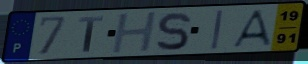7: (38, 15, 68, 57)
A: (230, 8, 274, 49)
H: (110, 10, 160, 55)
I: (210, 9, 226, 50)
S: (154, 11, 193, 52)
T: (77, 15, 105, 53)
